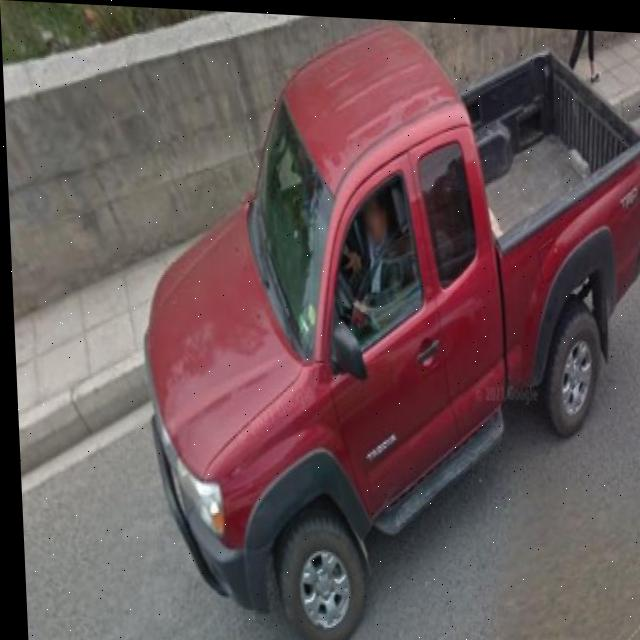vehicle: (162, 7, 640, 621)
